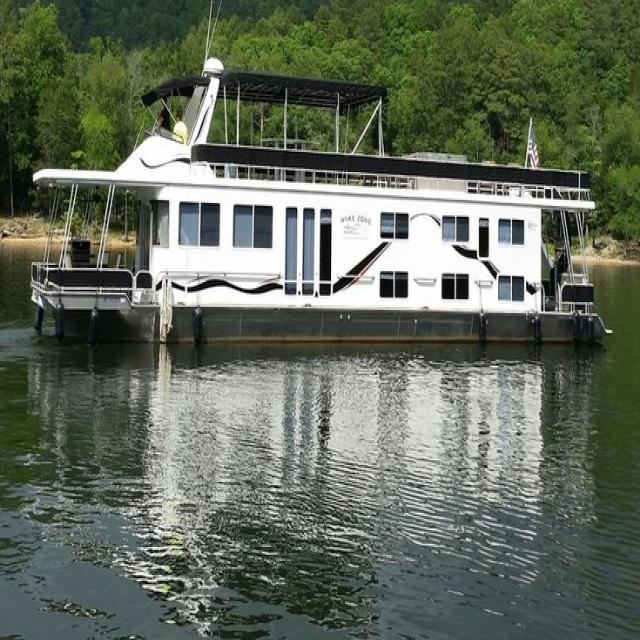passenger ship: (15, 37, 616, 347)
